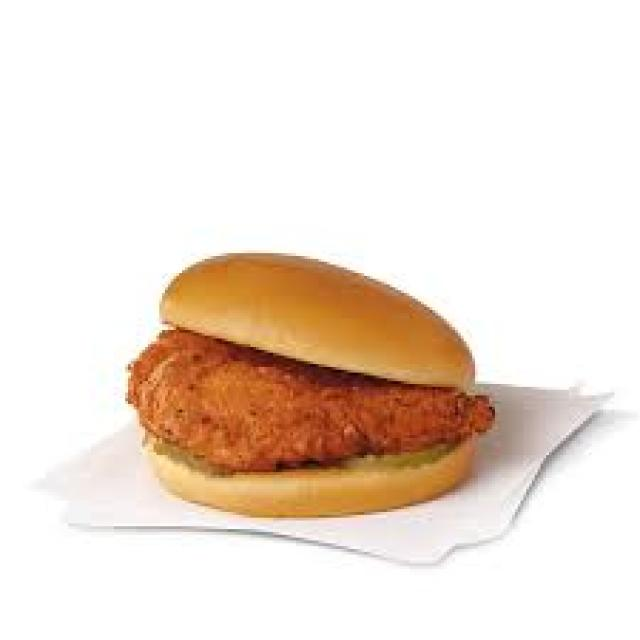Organik: (122, 251, 472, 520)
